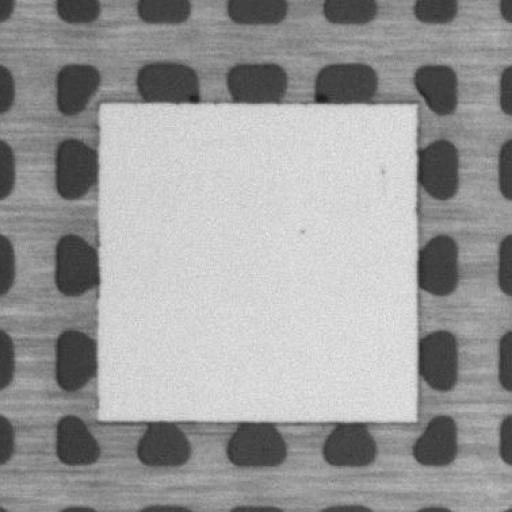DIE_INK: (292, 223, 308, 236), (376, 161, 388, 178)
